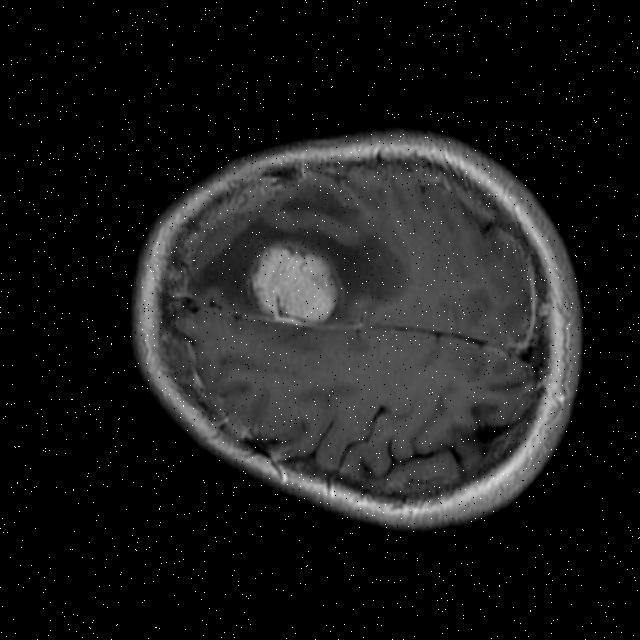Meningioma: (252, 240, 343, 323)
